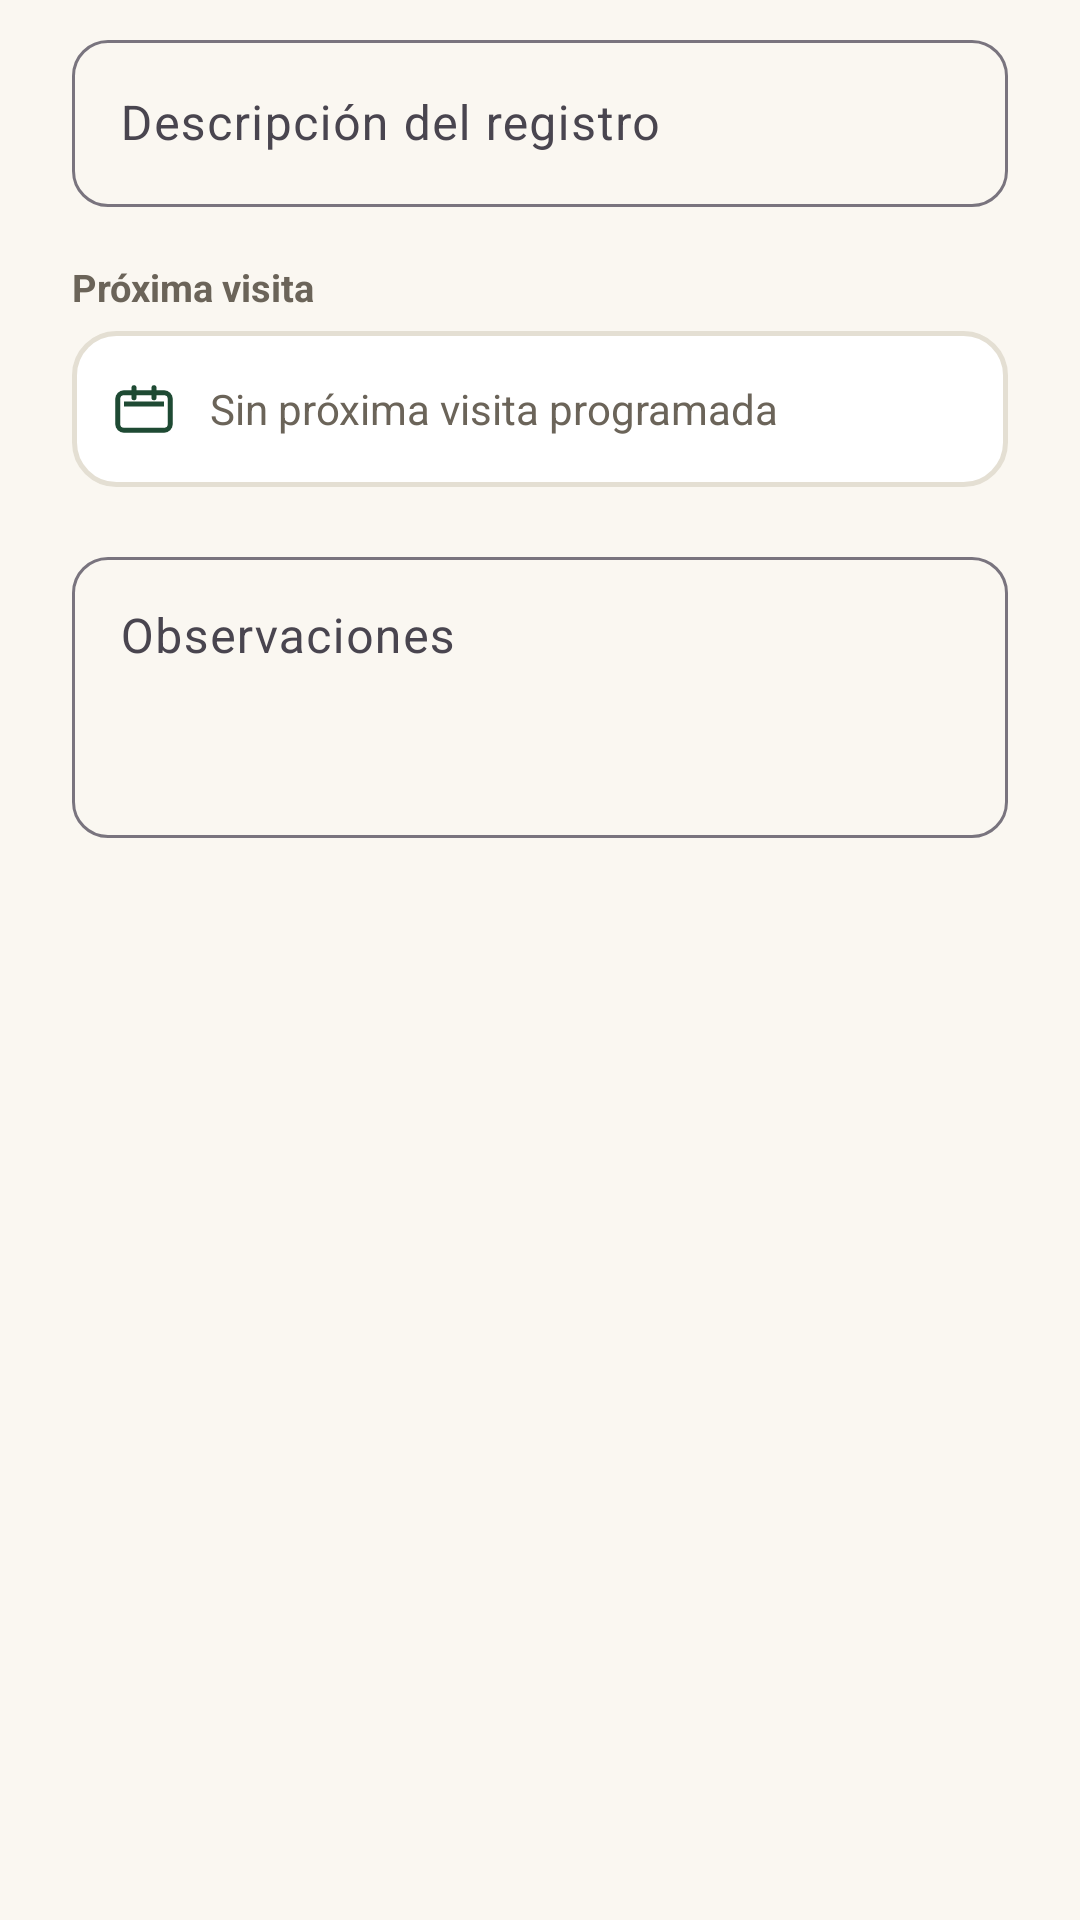

Screen size 1080 x 1920. Icon name, then its box in pixels as (x1, y1, x2, y2):
calendar: (115, 385, 173, 433)
